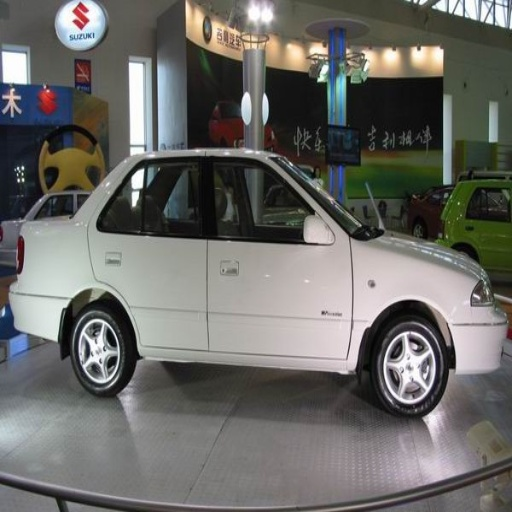back_right_door: (89, 156, 207, 346)
front_right_door: (208, 157, 350, 358)
